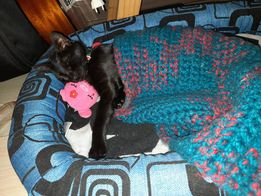cat: (33, 25, 131, 162)
